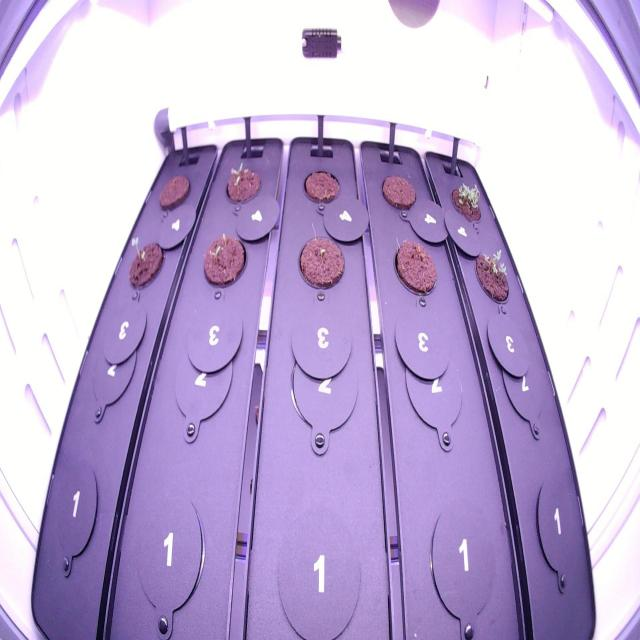empty_pod: (272, 505, 368, 633), (424, 491, 501, 624), (133, 494, 210, 610), (284, 332, 358, 436), (398, 344, 472, 438), (529, 473, 586, 588), (167, 329, 234, 426), (45, 458, 106, 562), (85, 329, 138, 415), (498, 344, 552, 427)
germination: (195, 219, 250, 298), (464, 238, 520, 311), (122, 224, 168, 295), (217, 156, 269, 212), (444, 172, 487, 230)
pod: (293, 227, 352, 300), (387, 234, 441, 304), (295, 160, 344, 212), (154, 163, 196, 216), (374, 167, 419, 216)
